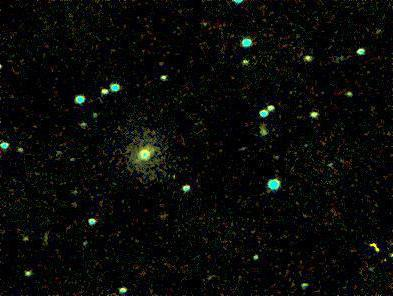star: (159, 162, 189, 192)
